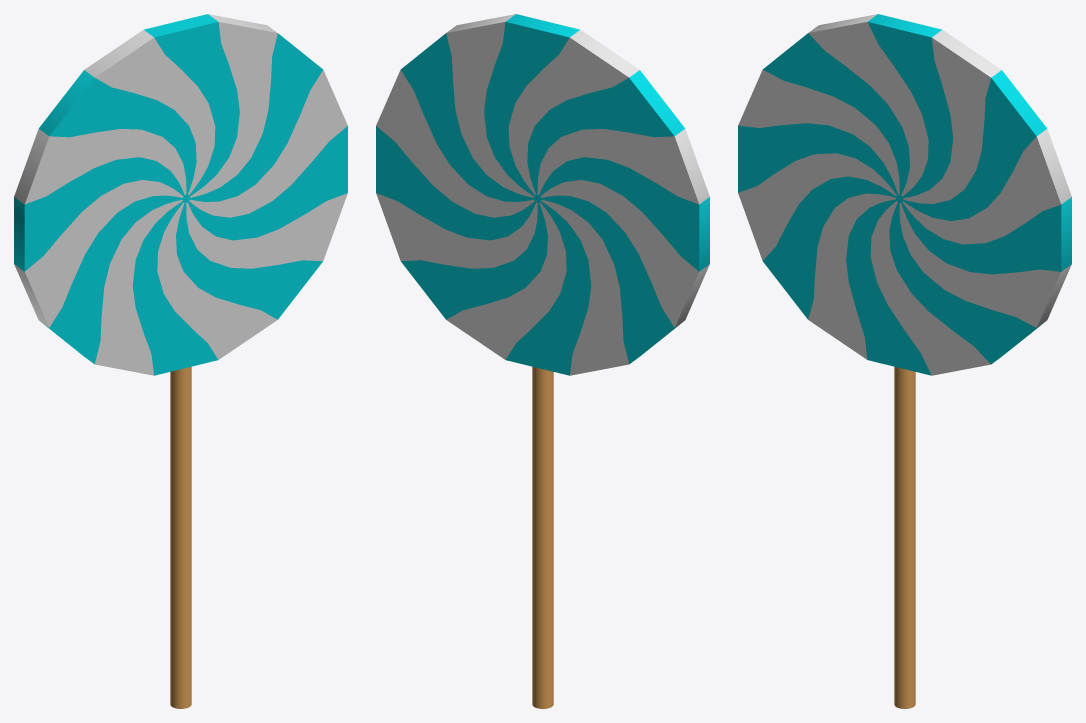
The model's file is PIRULETA 1.fbx.
The picture shows the model from 3 angles, left to right: view 1: azimuth 30°, elevation 25°; view 2: azimuth 150°, elevation 25°; view 3: azimuth 330°, elevation 25°; orthographic projection.
Visible parts, largest first — view 1: Piruleta 2.001; view 2: Piruleta 2.001; view 3: Piruleta 2.001.
Part boxes in pixels (box(x1,y1,x2,y2)): Piruleta 2.001: box(14, 14, 347, 708); Piruleta 2.001: box(376, 14, 709, 708); Piruleta 2.001: box(738, 14, 1071, 708).
Bounding box in the file's own units: 654 × 1312 × 37.39.
